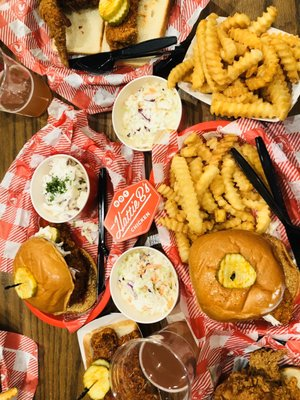pizza: (109, 332, 195, 400)
sandwich: (71, 36, 179, 74)
sushi: (109, 246, 180, 331)
